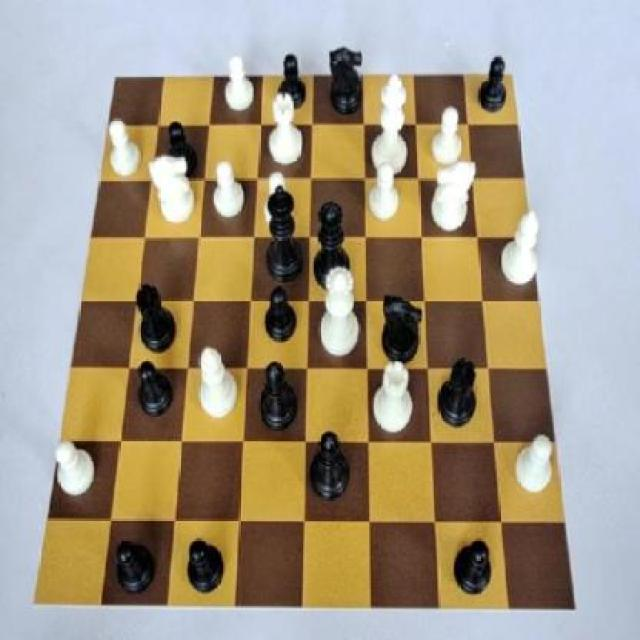bishop: (254, 352, 306, 440), (308, 425, 354, 509)
black-bishop: (261, 174, 307, 289)
black-king: (376, 286, 428, 371), (323, 40, 370, 121)
black-knight: (448, 528, 500, 604), (178, 529, 228, 600), (110, 531, 162, 598), (131, 354, 180, 424), (261, 272, 304, 347), (472, 51, 514, 115), (274, 49, 314, 113), (163, 117, 202, 180)
black-pawn: (311, 194, 356, 296)
black-queen: (434, 348, 488, 440), (129, 276, 185, 360)
black-rook: (190, 342, 242, 430), (499, 197, 546, 291)
white-bishop: (369, 66, 414, 180)
white-king: (144, 150, 202, 228), (429, 151, 479, 235)
white-knight: (49, 429, 104, 502), (511, 428, 562, 503), (97, 111, 146, 186), (424, 100, 468, 171), (218, 44, 262, 114), (209, 155, 251, 224), (364, 157, 406, 226), (262, 166, 300, 227)
white-pawn: (315, 260, 364, 364)
white-queen: (371, 357, 420, 438), (263, 86, 309, 170)
